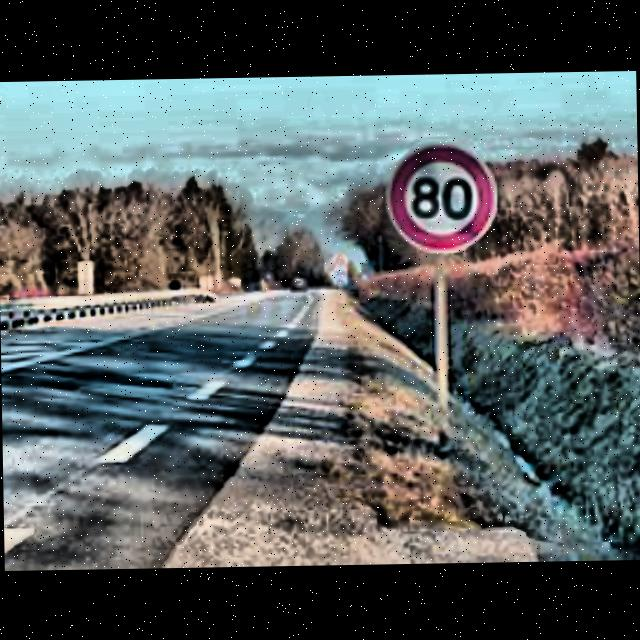speed_80: (385, 142, 501, 254)
